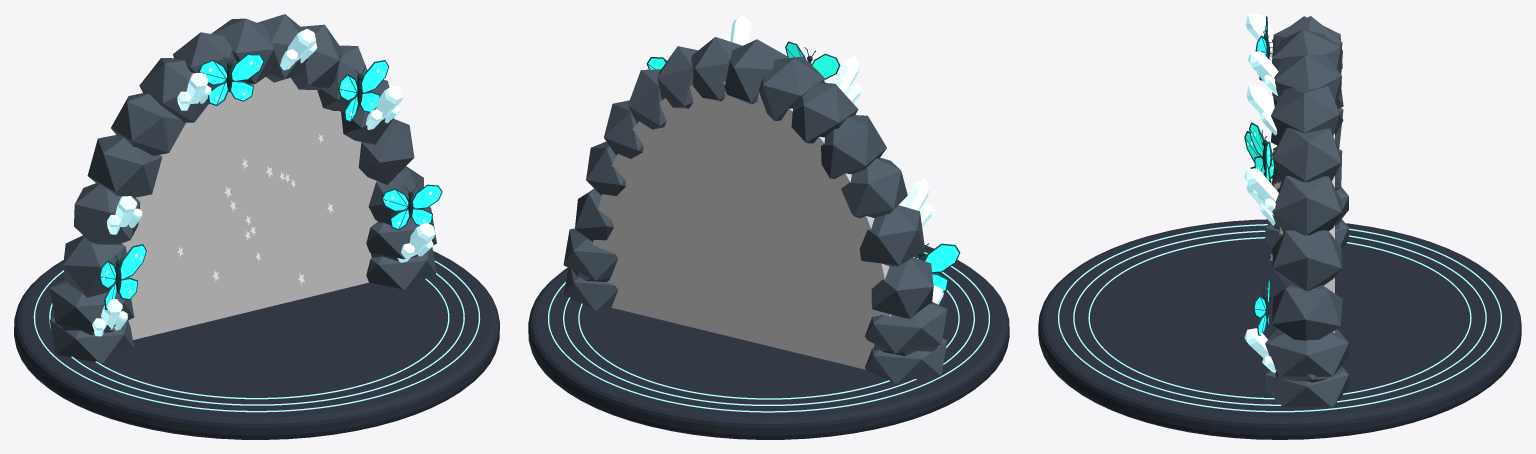
File: Portal.fbx
The picture shows the model from 3 angles, left to right: view 1: azimuth 30°, elevation 25°; view 2: azimuth 150°, elevation 25°; view 3: azimuth 270°, elevation 25°; orthographic projection.
Parts seen in each view (by area): view 1: Carved circular altar, Portal aperture, Arch stone 11, Arch stone 10, Arch stone 12, Arch stone 13, Arch stone 02, Arch foot, Arch stone 09, Arch foot.001, Arch stone 07, Arch stone 05 (+17 smaller); view 2: Portal aperture, Carved circular altar, Arch stone 12, Arch stone 10, Arch stone 13, Arch foot.001, Arch stone 11, Arch stone 09, Arch stone 08, Arch stone 07, Arch foot, Arch stone 06 (+14 smaller); view 3: Carved circular altar, Arch stone 02, Arch stone 03, Arch stone 01, Arch foot.003, Arch stone 04, Arch stone 05, Arch foot.002, Arch stone 06, Altar inlay.002, Altar inlay.001, Arch stone 07 (+7 smaller).
Part boxes in pixels (x1,y1,x2,y2): Carved circular altar: (14, 251, 499, 439); Portal aperture: (121, 77, 377, 339); Arch stone 11: (87, 134, 162, 197); Arch stone 10: (111, 93, 185, 155); Arch stone 12: (74, 183, 139, 244); Arch stone 13: (63, 235, 126, 297); Arch stone 02: (358, 118, 414, 184); Arch foot: (49, 317, 133, 363); Arch stone 09: (139, 58, 208, 122); Arch foot.001: (49, 280, 134, 333); Arch stone 07: (211, 18, 274, 84); Arch stone 05: (291, 24, 342, 89); Portal aperture: (593, 82, 891, 369); Carved circular altar: (528, 245, 1009, 439); Arch stone 12: (859, 205, 925, 266); Arch stone 10: (821, 115, 886, 178); Arch stone 13: (871, 257, 933, 318); Arch foot.001: (865, 302, 947, 353); Arch stone 11: (841, 157, 907, 218); Arch stone 09: (791, 82, 858, 143); Arch stone 08: (759, 56, 824, 120); Arch stone 07: (724, 39, 788, 104); Arch foot: (865, 338, 947, 383); Arch stone 06: (691, 37, 742, 101); Carved circular altar: (1038, 219, 1521, 439); Arch stone 02: (1272, 230, 1341, 291); Arch stone 03: (1272, 176, 1341, 235); Arch stone 01: (1271, 285, 1342, 340); Arch foot.003: (1265, 328, 1348, 376); Arch stone 04: (1272, 128, 1341, 182); Arch stone 05: (1271, 86, 1343, 138); Arch foot.002: (1265, 366, 1348, 406); Arch stone 06: (1272, 54, 1341, 102); Altar inlay.002: (1058, 224, 1501, 412); Altar inlay.001: (1073, 230, 1486, 405); Arch stone 07: (1272, 29, 1341, 72).
Size of what is drawn, in the model's own units: 570 by 405 by 570.
